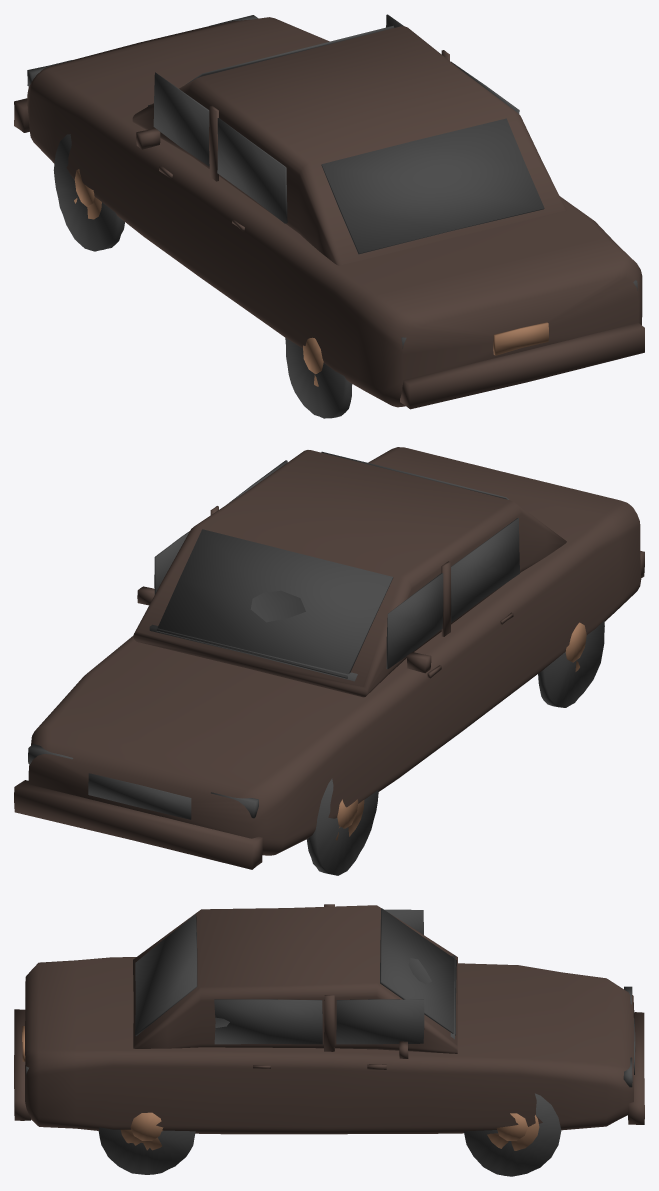
The model's file is SM_Car_Sedan_Burnt.fbx.
3 renders of one model, top to bottom at view 1: azimuth 30°, elevation 25°; view 2: azimuth 150°, elevation 25°; view 3: azimuth 270°, elevation 25°, orthographic. The views are drawn at different scales.
Parts seen in each view (by area): view 1: SM_Car_Sedan_Burnt; view 2: SM_Car_Sedan_Burnt; view 3: SM_Car_Sedan_Burnt.
Part boxes in pixels (left/top/right/bottom): SM_Car_Sedan_Burnt: left=14, top=14, right=644, bottom=418; SM_Car_Sedan_Burnt: left=14, top=447, right=644, bottom=875; SM_Car_Sedan_Burnt: left=14, top=904, right=644, bottom=1176.
Bounding box in the file's own units: 1.97 × 1.49 × 4.67.
